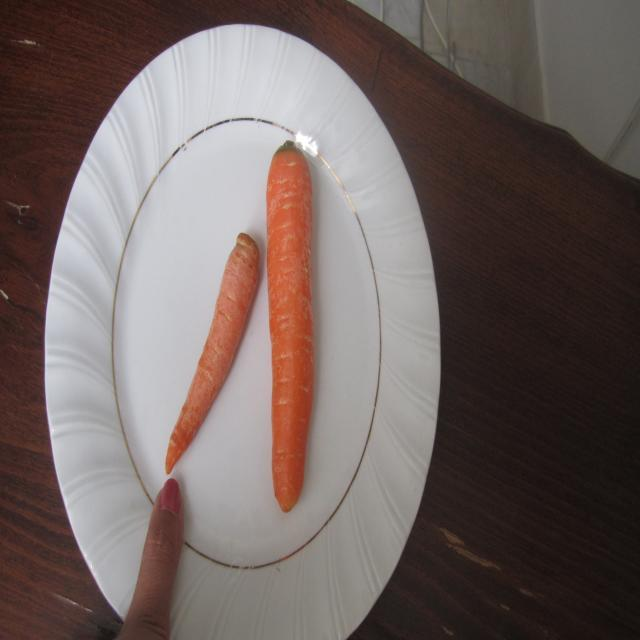Carrot: (157, 222, 262, 487), (260, 134, 320, 516)
Finger: (132, 479, 201, 629)
